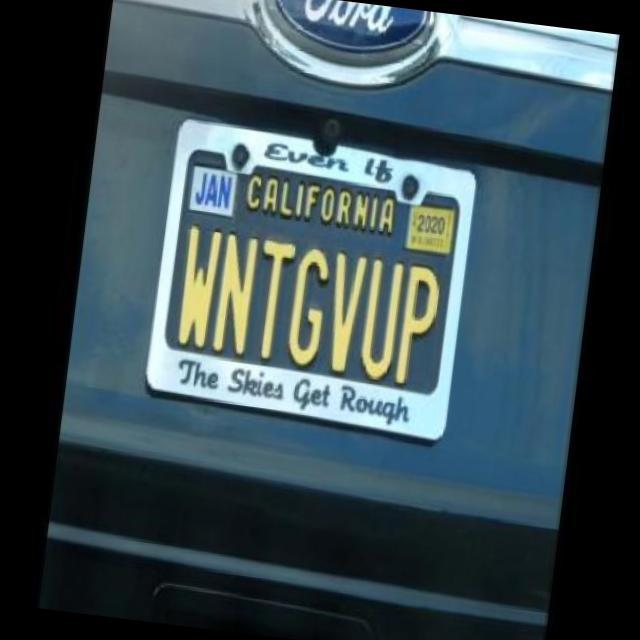LicensePlate: (146, 118, 480, 445)
